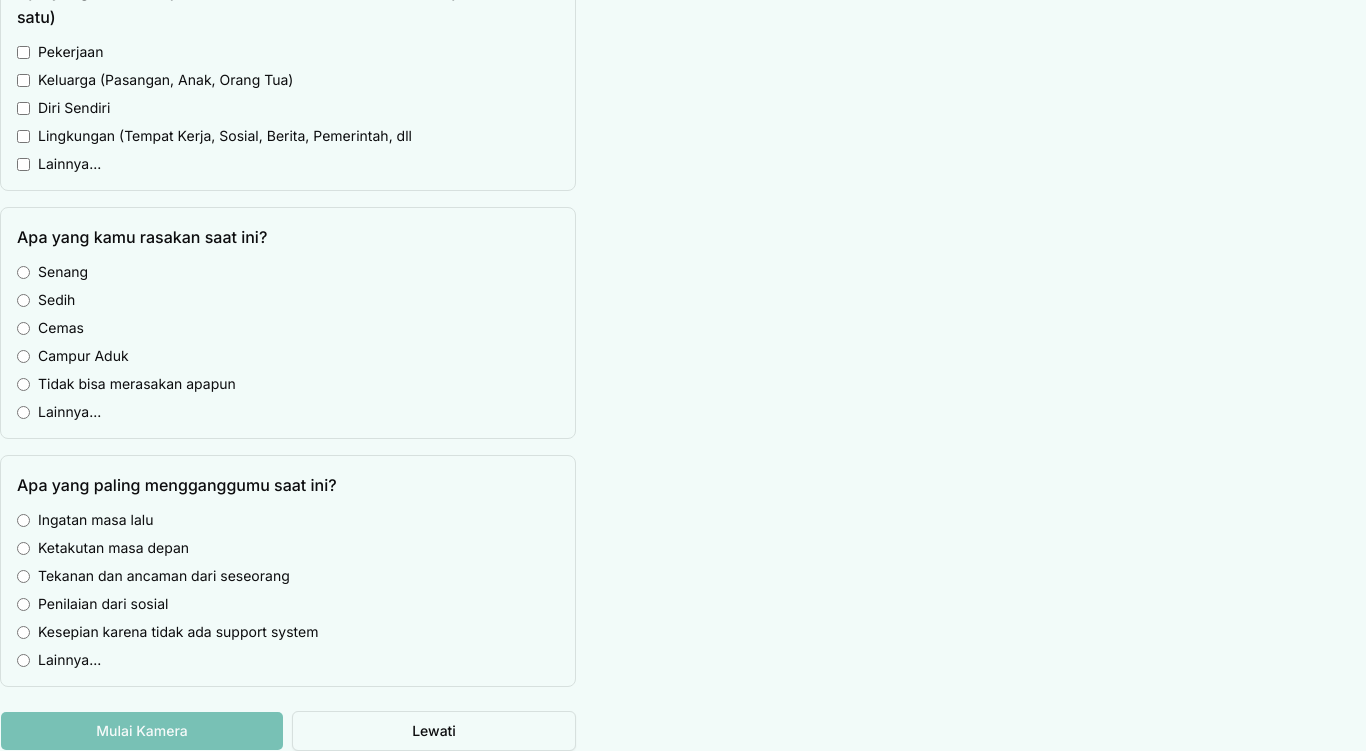
Test: PreScanQuestionnaire › skip confirmation modal shows correct text
The image size is (1366, 751).
(page scrolled)
Step 1. Click the button "Lewati" → [434, 731], box left=292, top=711, right=576, bottom=750
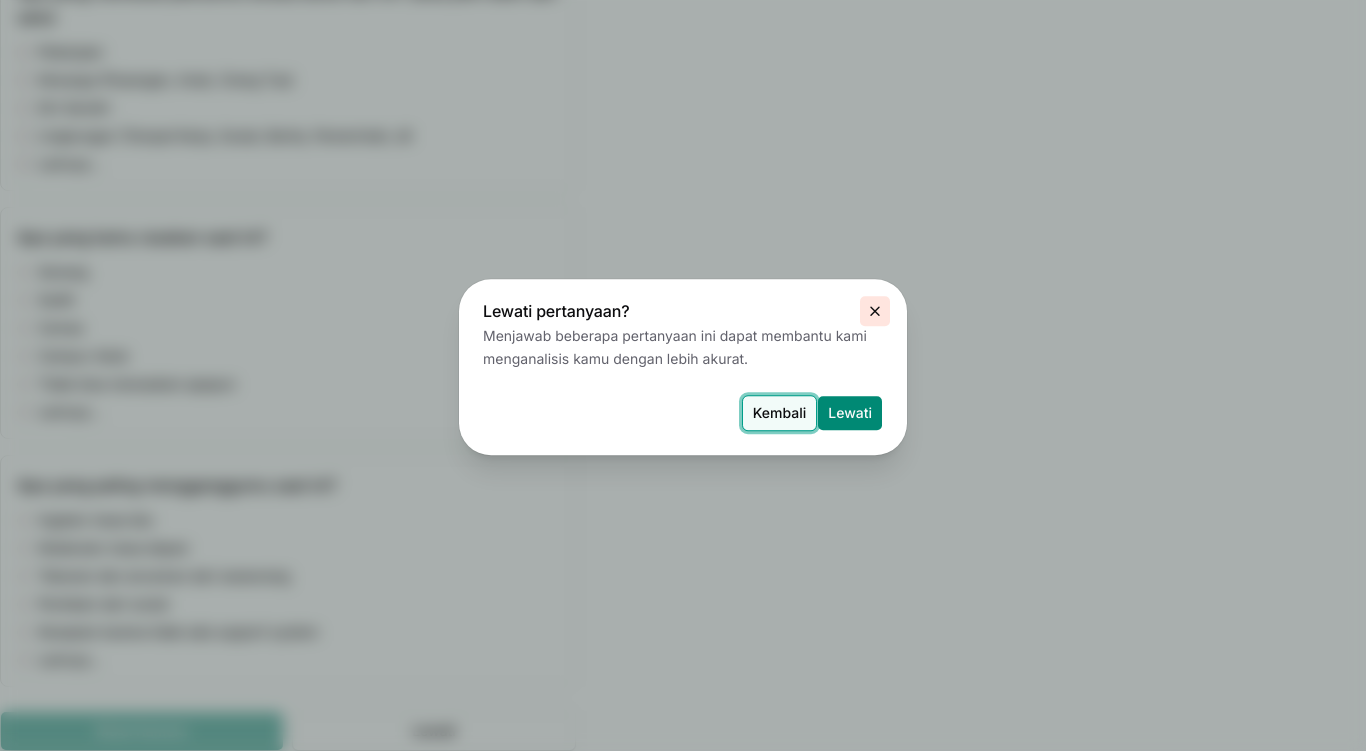
Expected: the text "Menjawab beberapa pertanyaan ini" is shown, left=483, top=327, right=867, bottom=367
Expected: the button "Kembali" is shown, left=742, top=395, right=817, bottom=431
